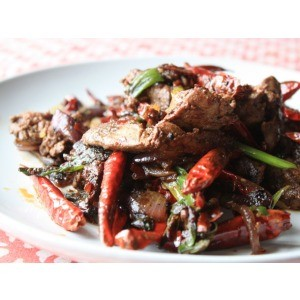liver_brain food: (91, 77, 258, 156)
